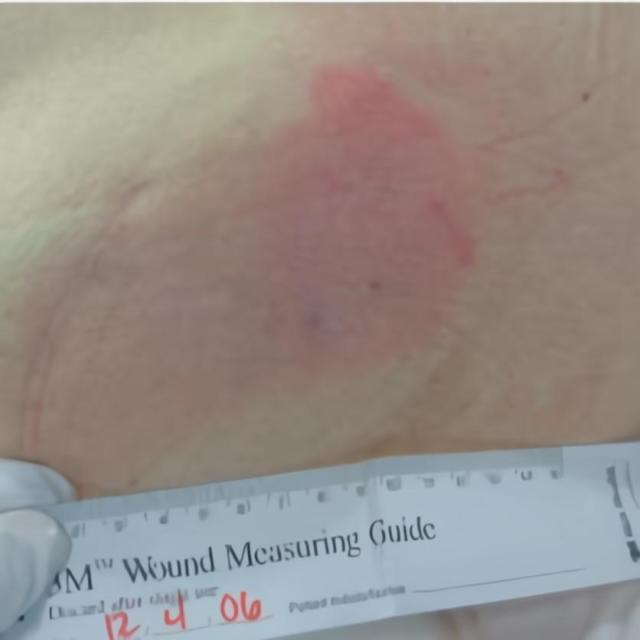stage-1: (254, 71, 468, 387)
